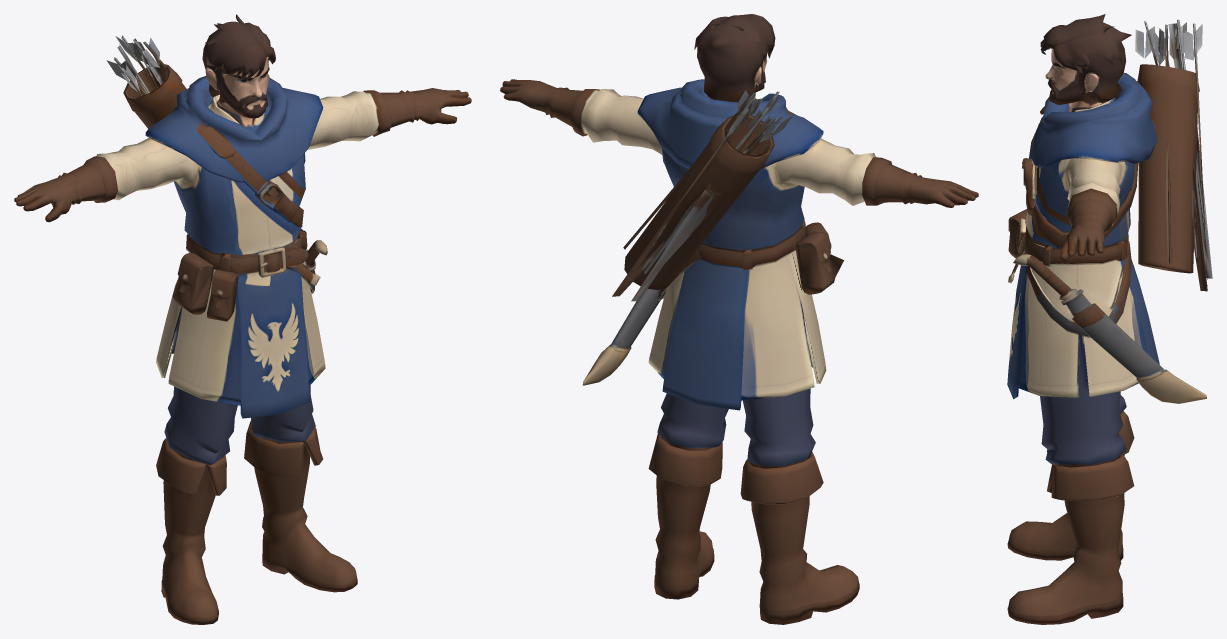
File: crossbowman_body_v2_tex.fbx
The picture shows the model from 3 angles, left to right: view 1: azimuth 30°, elevation 25°; view 2: azimuth 150°, elevation 25°; view 3: azimuth 270°, elevation 25°; orthographic projection. The views are drawn at different scales.
Parts seen in each view (by area): view 1: tripo_4253aaf7_2d72_4a14_ac0a_9ba642500d54; view 2: tripo_4253aaf7_2d72_4a14_ac0a_9ba642500d54; view 3: tripo_4253aaf7_2d72_4a14_ac0a_9ba642500d54.
Part boxes in pixels (bbox=[...]): tripo_4253aaf7_2d72_4a14_ac0a_9ba642500d54: bbox=[14, 14, 471, 624]; tripo_4253aaf7_2d72_4a14_ac0a_9ba642500d54: bbox=[500, 14, 978, 624]; tripo_4253aaf7_2d72_4a14_ac0a_9ba642500d54: bbox=[1007, 14, 1212, 624].
Size of the model in its own units: 0.8491 by 0.9995 by 0.3306.
1 material, 1 textured.
